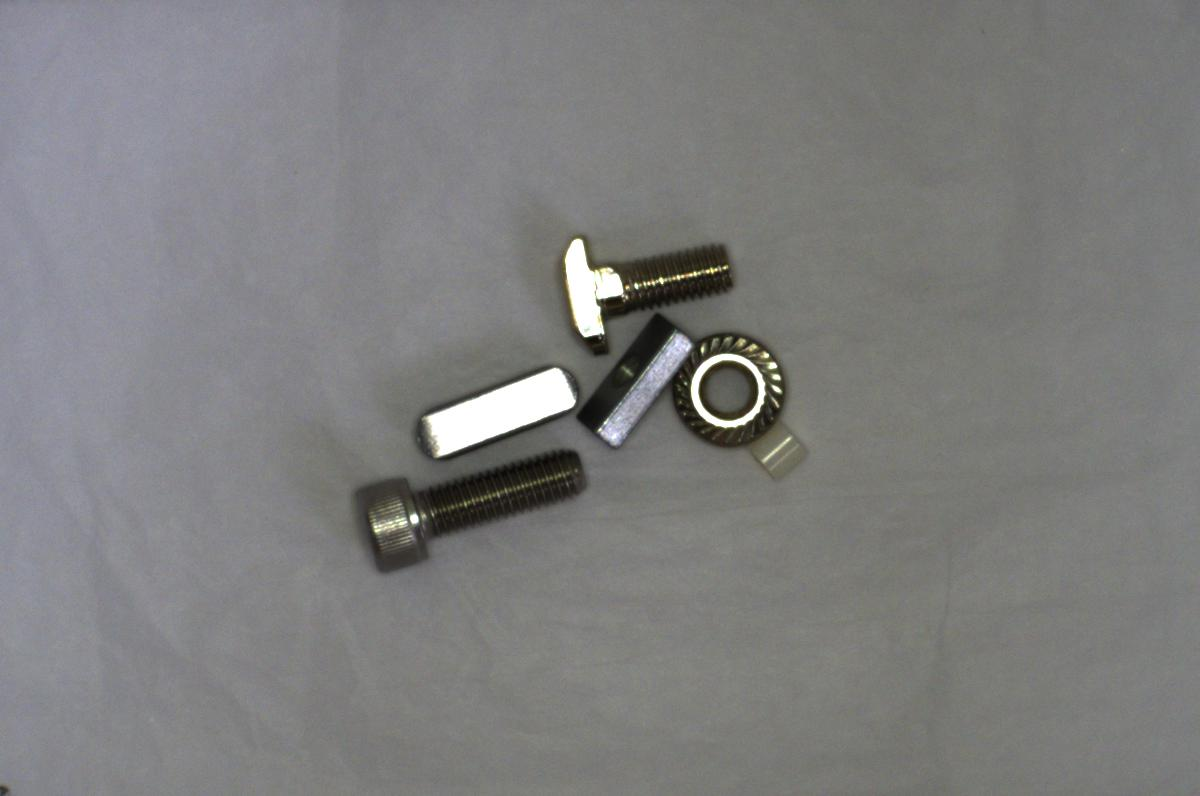Flange nut: (672, 328, 785, 447)
Hexagon screw: (354, 454, 590, 570)
Keybar: (418, 368, 581, 453)
Plastic cushion pillar: (742, 419, 812, 482)
Rectangular nut: (574, 314, 695, 447)
T-shaped screw: (554, 228, 738, 350)
